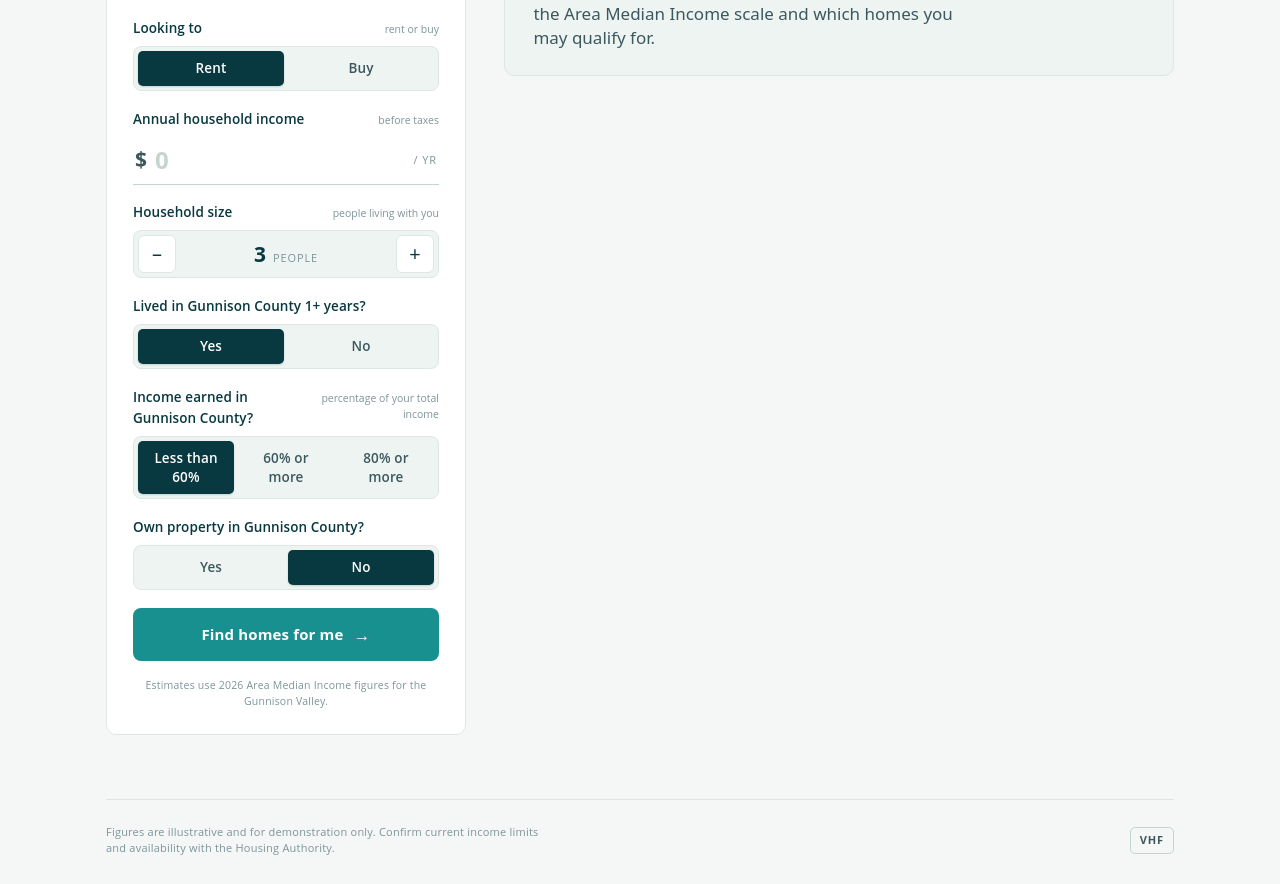
Calculator form › shows an error and does not submit when income is zero
This screenshot has width=1280, height=884.
(page scrolled)
Click the button "Find homes for me →": (286, 634) [133,608,439,661]
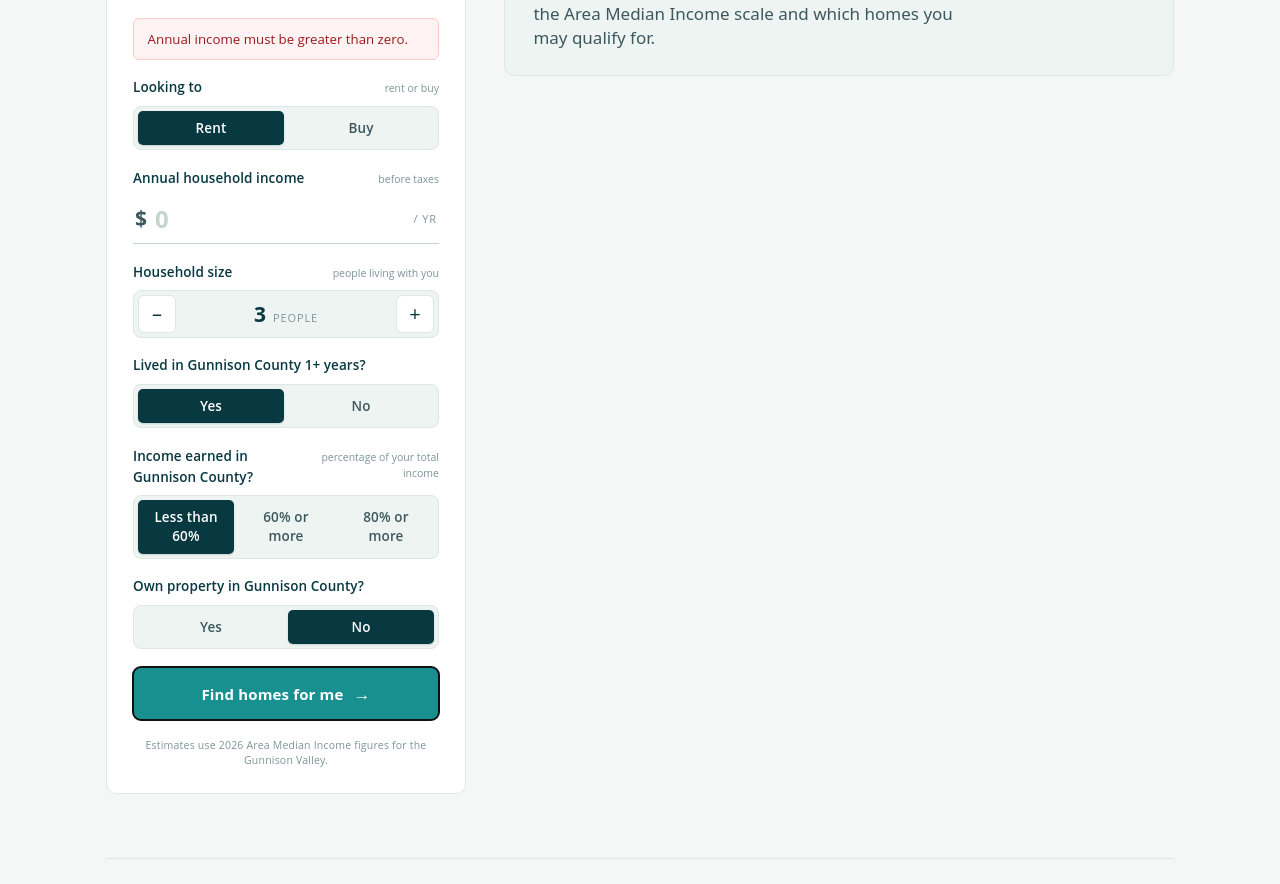
Result: the message "Annual income must be greater than zero." is shown at [133,18,439,60]
